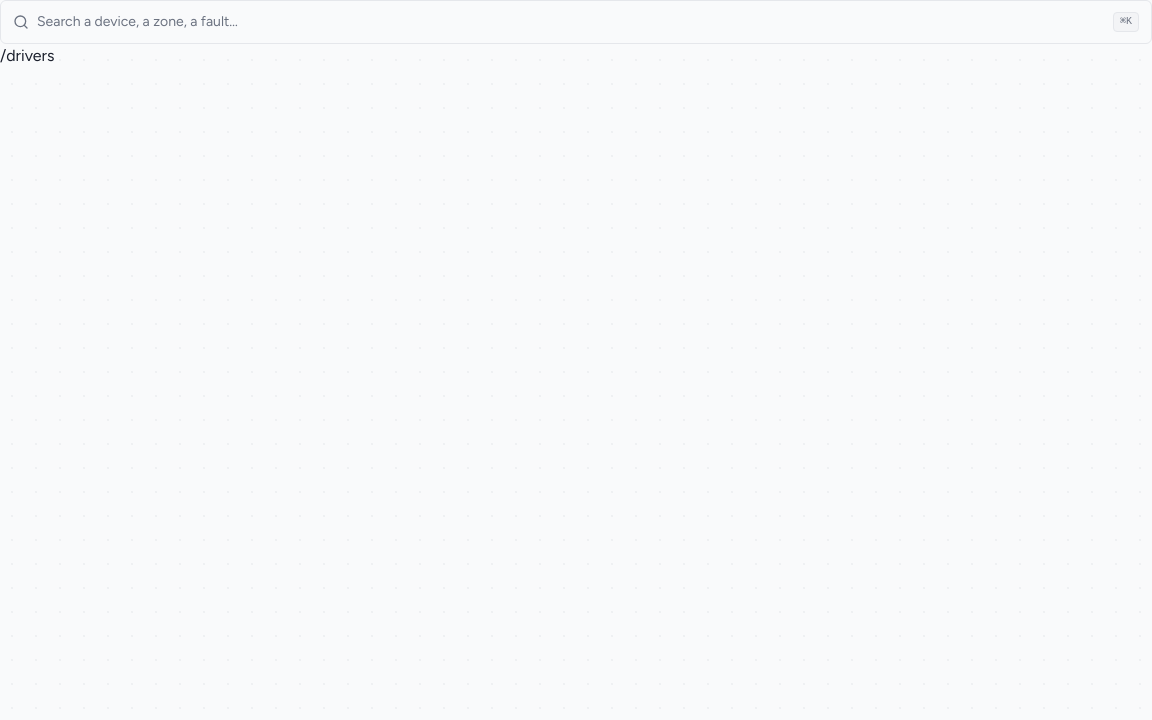
Test: GlobalSearch › preserves fuzzy zone and fault search for fltc
Type keys "{Meta>}k{/Meta}"
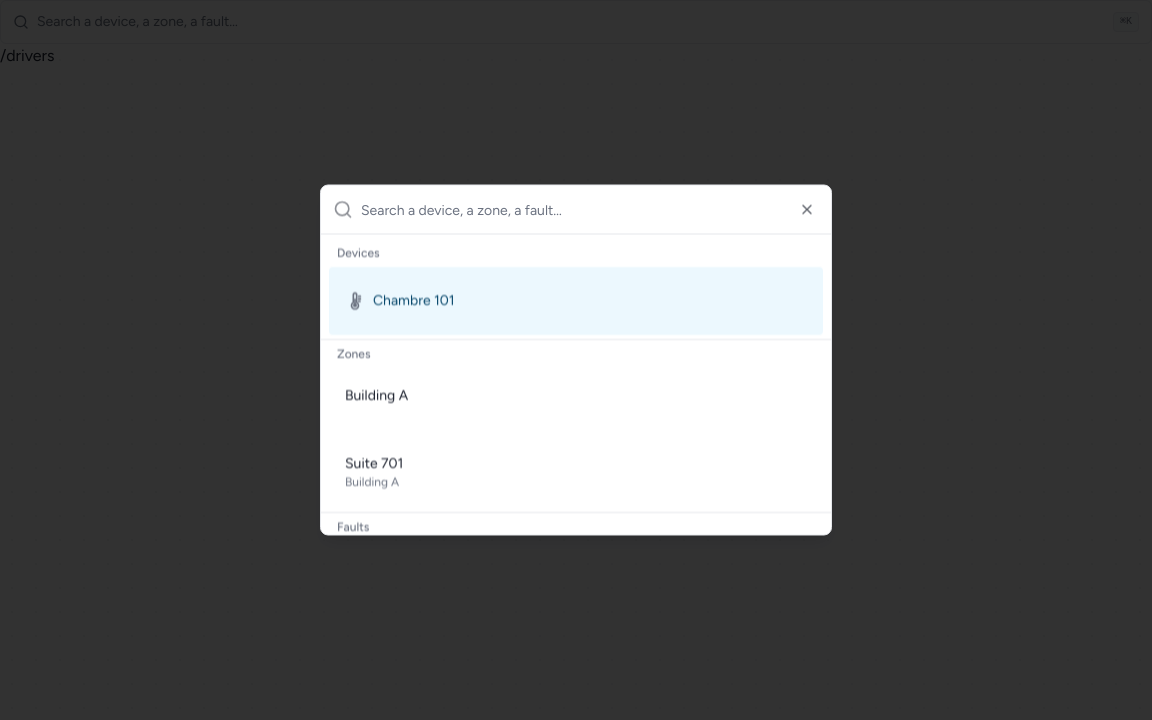
In the dropdown: (590, 210) left=361, top=186, right=819, bottom=234, type "fltc"
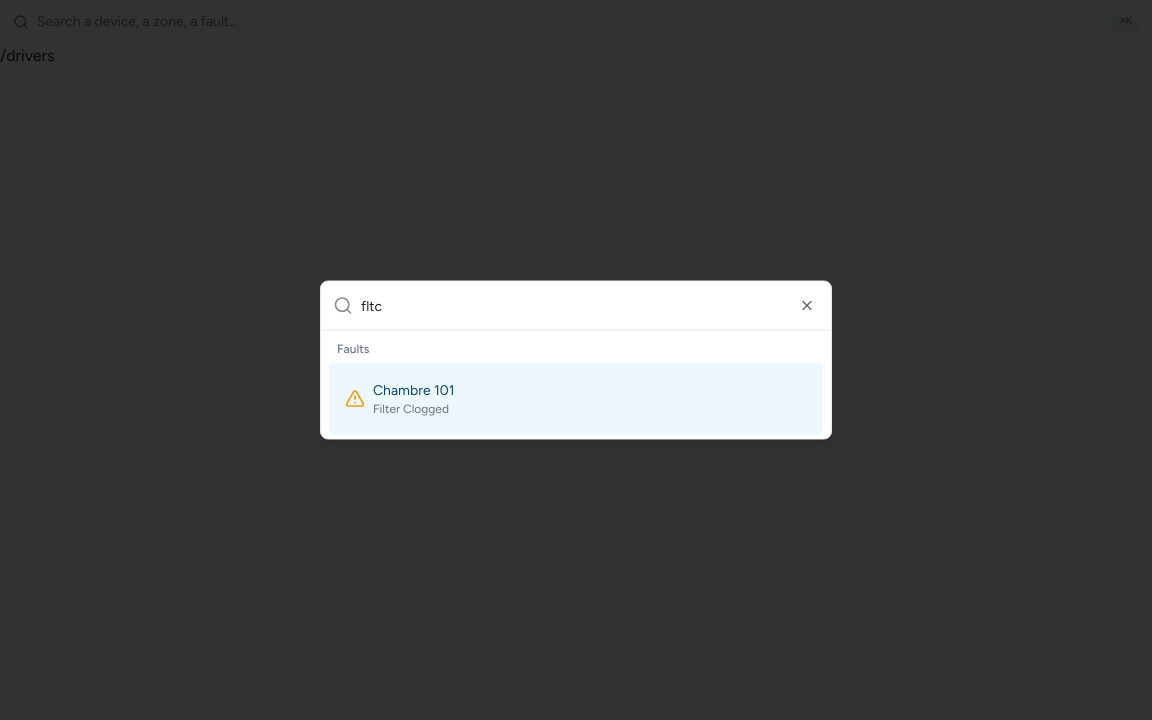
Click the option "Chambre 101 Filter Clogged": (576, 398) left=329, top=362, right=823, bottom=434
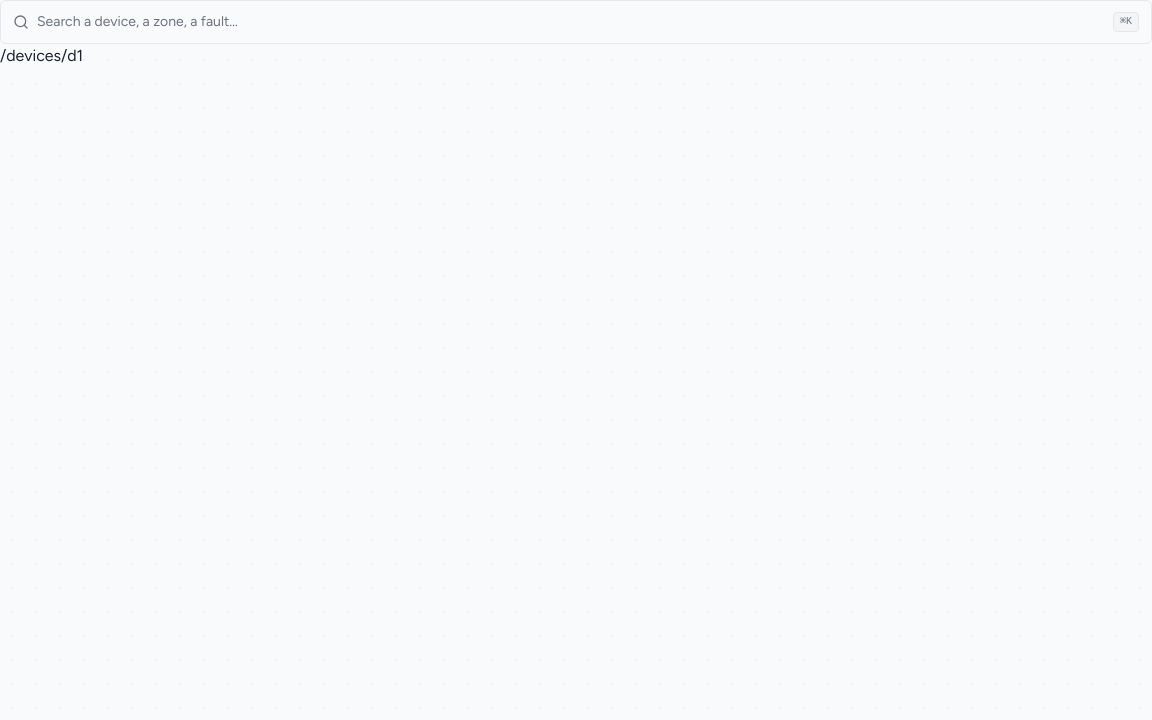
Expected: the text with test id "pathname" reads "/devices/d1", left=0, top=46, right=83, bottom=65
